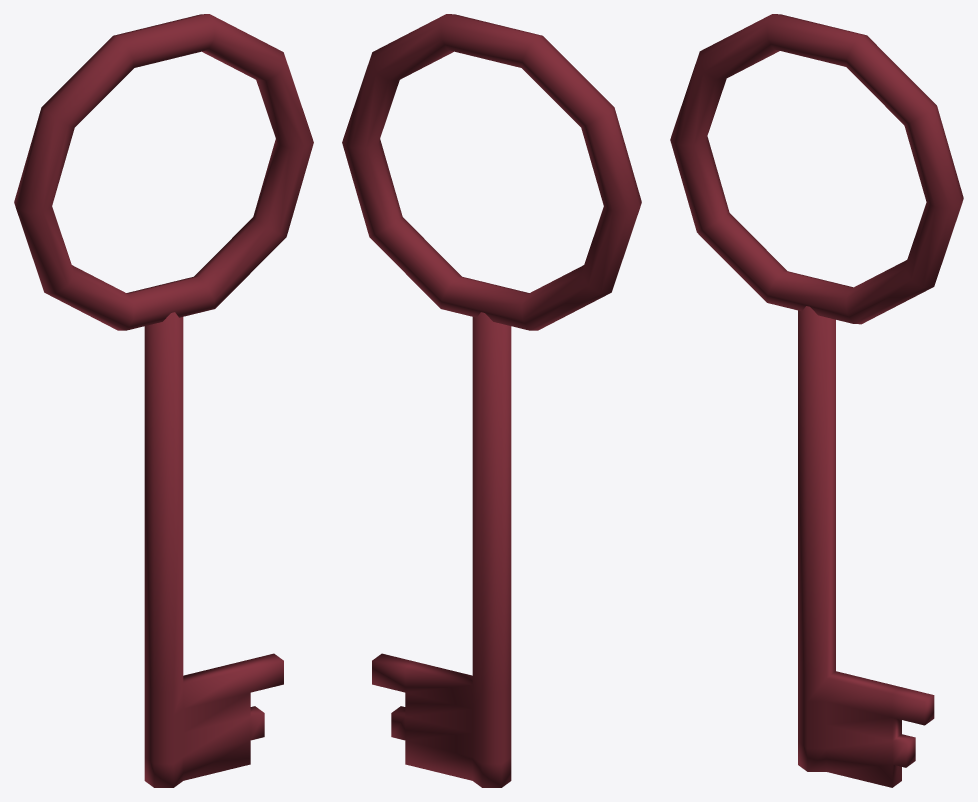
File: roomkey.glb
3 views of the same model, side by side, from view 1: azimuth 30°, elevation 25°; view 2: azimuth 150°, elevation 25°; view 3: azimuth 330°, elevation 25° (orthographic). The views are drawn at different scales.
Visible parts, largest first — view 1: Torus; view 2: Torus; view 3: Torus.
Part boxes in pixels (bbox=[...]): Torus: bbox=[14, 14, 313, 787]; Torus: bbox=[342, 14, 641, 787]; Torus: bbox=[670, 14, 963, 787].
Bounding box in the file's own units: 0.0887 × 0.2165 × 0.0102.
